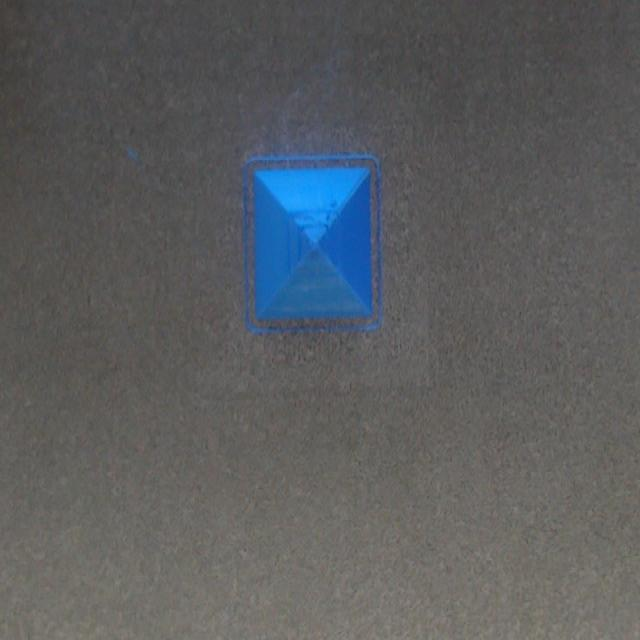mistake: (296, 200, 342, 244)
